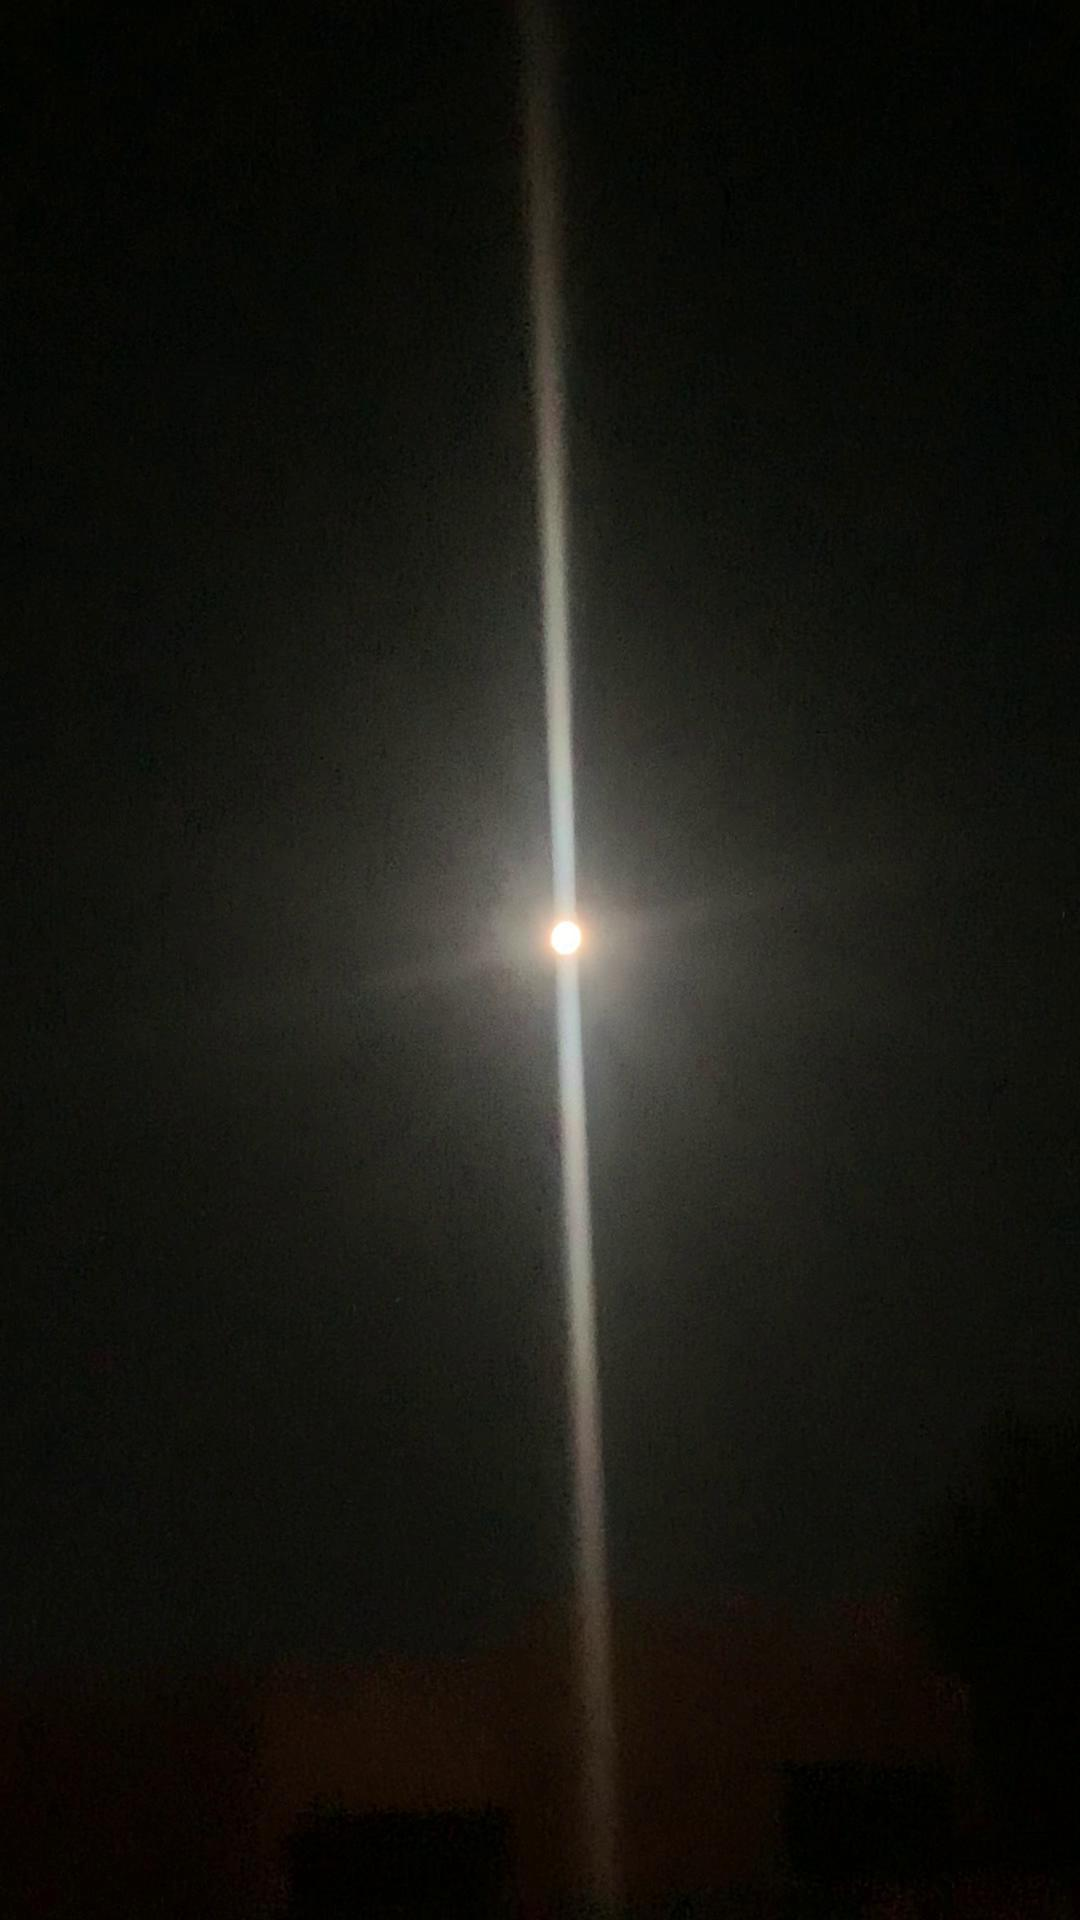moon: (524, 894, 628, 977)
